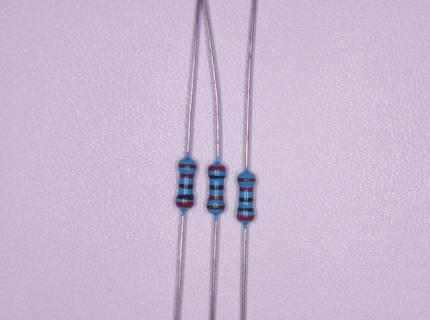Black band: (177, 194, 194, 200), (239, 197, 253, 202), (210, 185, 224, 190), (179, 184, 193, 189), (237, 208, 254, 212), (209, 175, 225, 178)
Brown band: (178, 164, 196, 169), (207, 205, 225, 210), (238, 178, 256, 182)
Red band: (237, 215, 255, 221), (176, 202, 194, 208), (209, 166, 225, 171), (208, 196, 223, 200), (180, 174, 194, 178), (240, 187, 254, 191)
